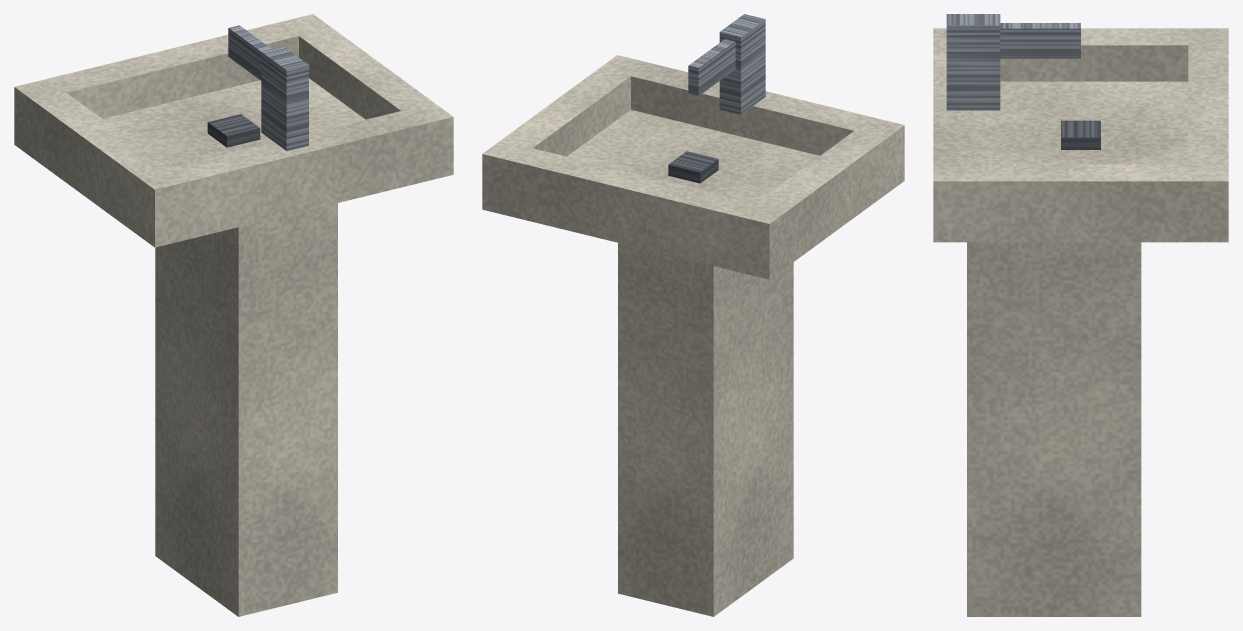
File: washbasin.fbx
3 renders of one model, left to right at view 1: azimuth 30°, elevation 25°; view 2: azimuth 150°, elevation 25°; view 3: azimuth 270°, elevation 25°, orthographic. The views are drawn at different scales.
Parts seen in each view (by area): view 1: washbasin; view 2: washbasin; view 3: washbasin.
Part boxes in pixels (<box>): washbasin: <box>14,14,453,616</box>; washbasin: <box>482,14,904,616</box>; washbasin: <box>933,14,1228,616</box>.
Bounding box in the file's own units: 54 × 94 × 44.
